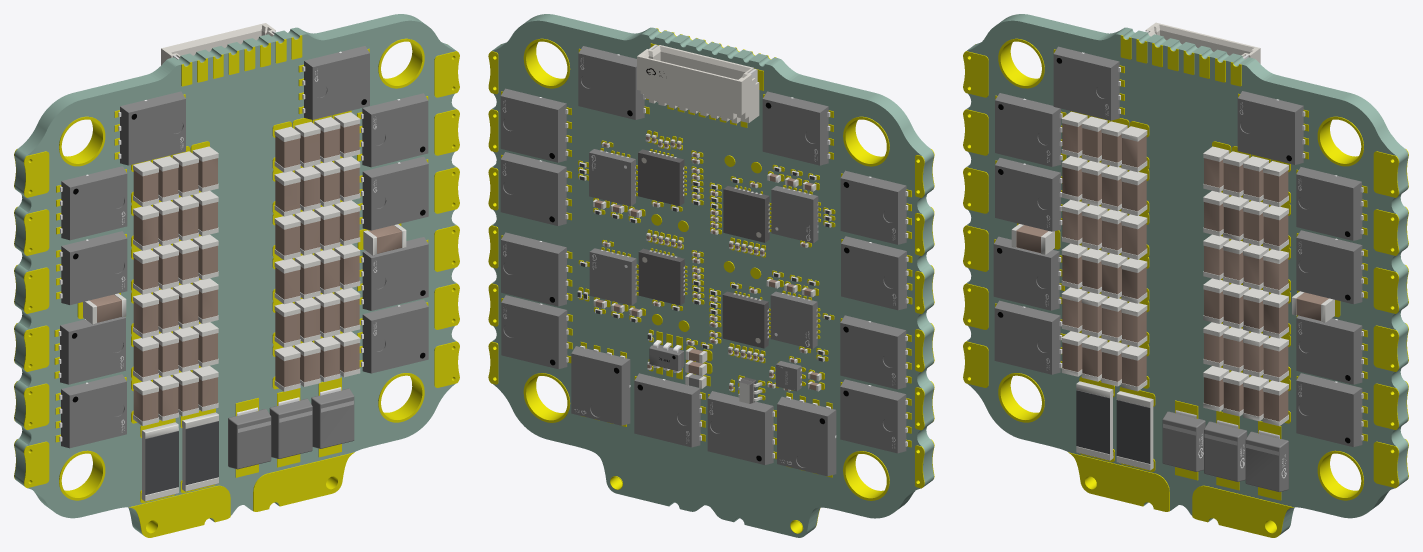
Rendered from esc5.glb.
The picture shows the model from 3 angles, left to right: view 1: azimuth 30°, elevation 25°; view 2: azimuth 150°, elevation 25°; view 3: azimuth 330°, elevation 25°; orthographic projection.
Parts seen in each view (by area): view 1: 4in1_PCB, C_0201_0603Metric_5, QFN-24_L4.0-W4.0-P0.50-TL-EP2.8_2, 4in1_copper, R_0201_0603Metric_5, CONN-SMD_SR1.00-WS-8P, PDFN-8_L6.0-W5.0-P1.27_HGQ065NE4A_19; view 2: 4in1_PCB, QFN-24_L4.0-W4.0-P0.50-TL-EP2.8_2, 4in1_copper, QFN-28_L4.0-W4.0-P0.40-TL-EP2.4_3, CONN-SMD_SR1.00-WS-8P, C_0201_0603Metric_5, PDFN-8_L6.0-W5.0-P1.27_HGQ065NE4A_19, R_0201_0603Metric_5; view 3: 4in1_PCB, C_0201_0603Metric_5, QFN-24_L4.0-W4.0-P0.50-TL-EP2.8_2, 4in1_copper, R_0201_0603Metric_5, PDFN-8_L6.0-W5.0-P1.27_HGQ065NE4A_19, CONN-SMD_SR1.00-WS-8P.
Boxes of the visible parts, x1,y1,x2,y2 form: 4in1_PCB: [14, 14, 456, 535]; C_0201_0603Metric_5: [83, 112, 406, 501]; QFN-24_L4.0-W4.0-P0.50-TL-EP2.8_2: [60, 46, 428, 469]; 4in1_copper: [14, 35, 459, 537]; R_0201_0603Metric_5: [145, 421, 218, 495]; CONN-SMD_SR1.00-WS-8P: [161, 23, 275, 65]; PDFN-8_L6.0-W5.0-P1.27_HGQ065NE4A_19: [58, 51, 400, 441]; 4in1_PCB: [491, 14, 933, 537]; QFN-24_L4.0-W4.0-P0.50-TL-EP2.8_2: [500, 46, 906, 476]; 4in1_copper: [488, 28, 934, 533]; QFN-28_L4.0-W4.0-P0.40-TL-EP2.4_3: [638, 149, 769, 403]; CONN-SMD_SR1.00-WS-8P: [637, 44, 759, 123]; C_0201_0603Metric_5: [577, 133, 831, 403]; PDFN-8_L6.0-W5.0-P1.27_HGQ065NE4A_19: [502, 54, 908, 464]; R_0201_0603Metric_5: [577, 163, 829, 361]; 4in1_PCB: [966, 14, 1408, 534]; C_0201_0603Metric_5: [1011, 111, 1334, 470]; QFN-24_L4.0-W4.0-P0.50-TL-EP2.8_2: [993, 46, 1362, 492]; 4in1_copper: [963, 35, 1408, 537]; R_0201_0603Metric_5: [1076, 390, 1150, 463]; PDFN-8_L6.0-W5.0-P1.27_HGQ065NE4A_19: [1022, 52, 1363, 478]; CONN-SMD_SR1.00-WS-8P: [1145, 22, 1260, 63].
Size of the model in its own units: 0.0416 by 0.0425 by 0.00627.
